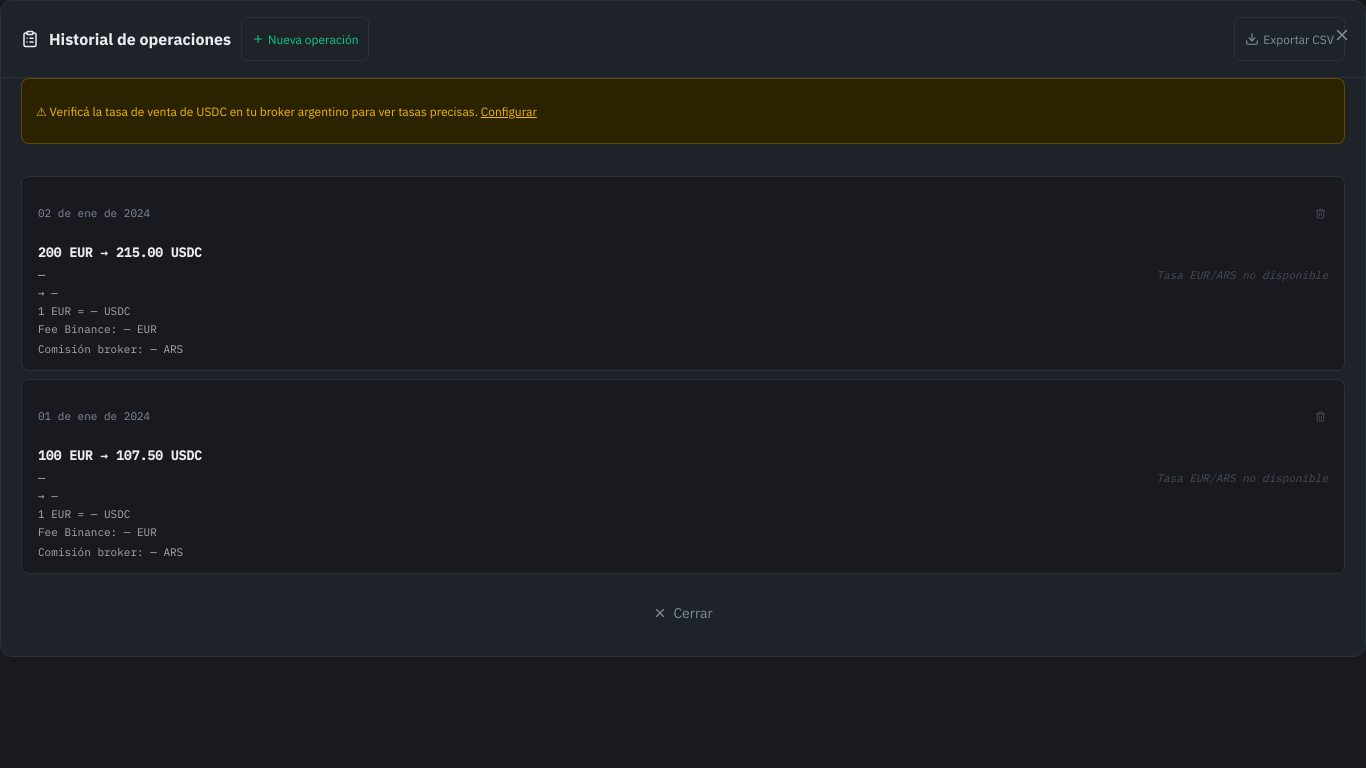
Delete entry with confirmation dialog › "Eliminar" quita la entrada del DOM y del localStorage
The history is reversed in display — first card shown is the last entry (200 EUR)
Click the 1st button named "Eliminar operación".
click(1320, 213)  # box 1313,191 -> 1328,235
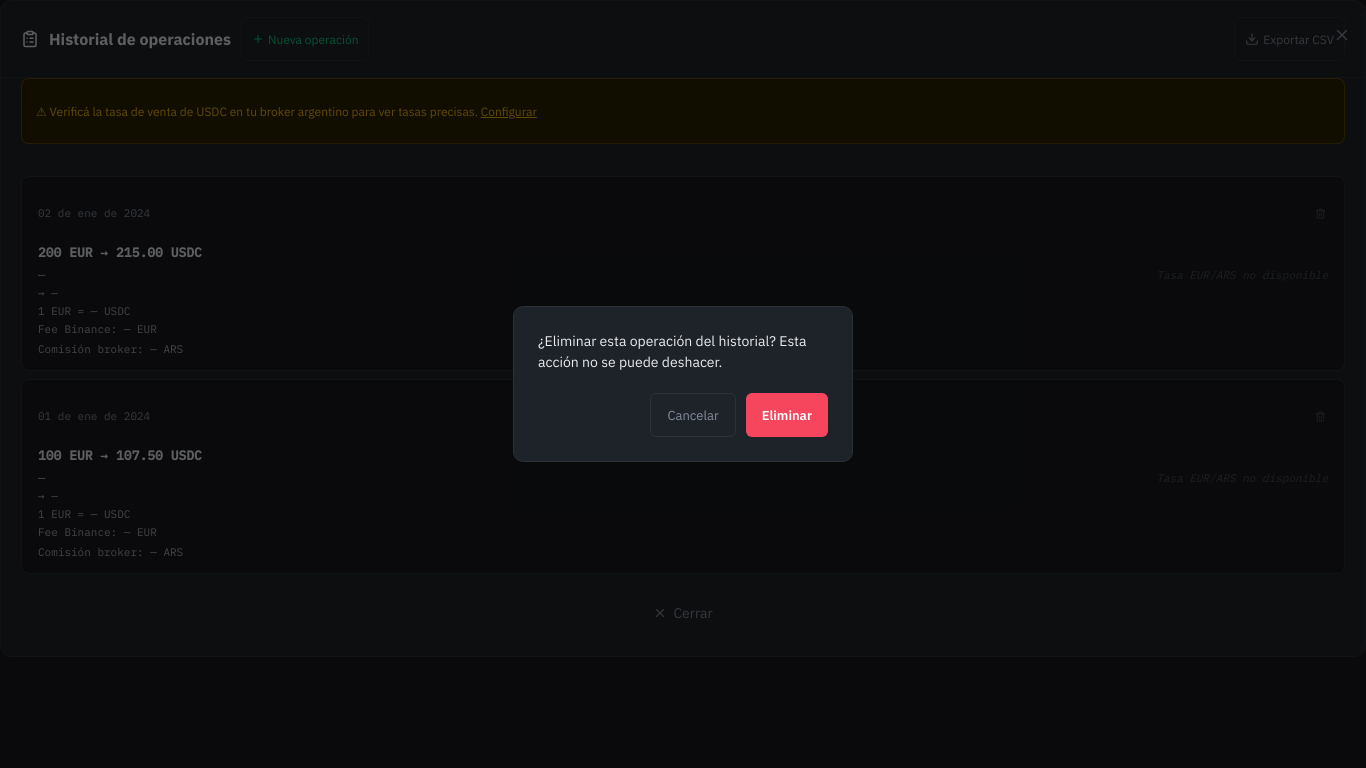
Click the button "Eliminar".
click(787, 415)  # box 746,393 -> 828,437
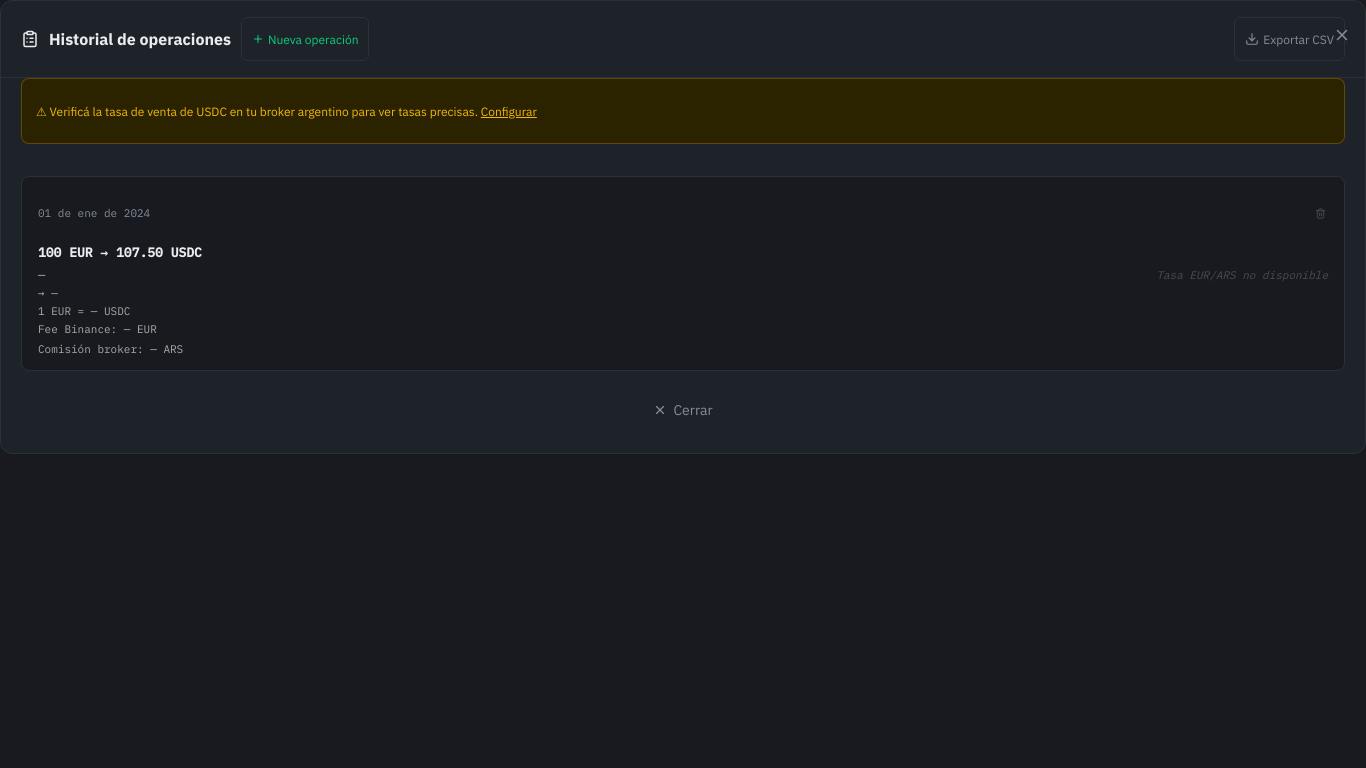
Expected: the number of buttons with test id "history-card" is 1, 21,176 -> 1345,371
